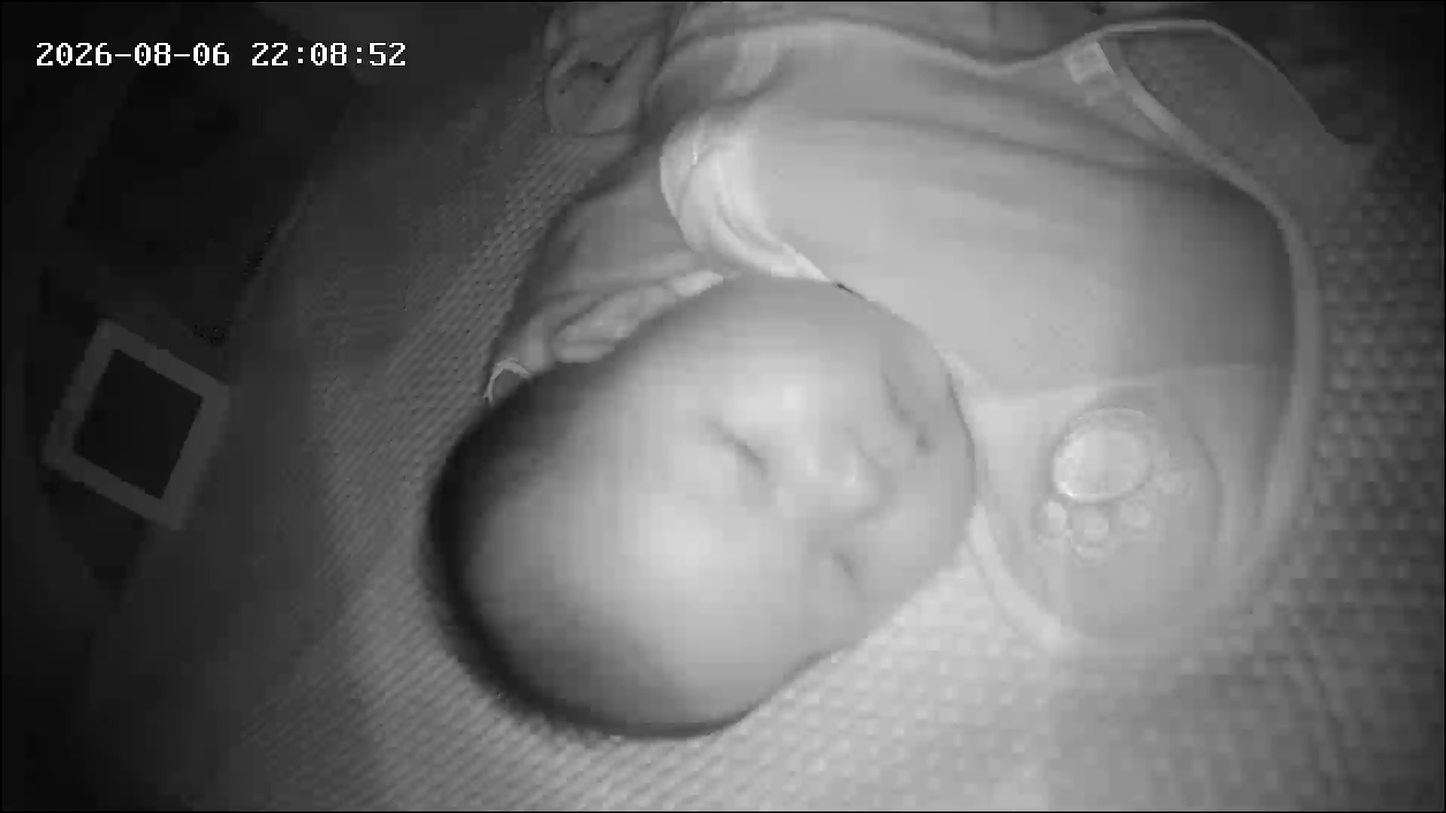baby: (410, 1, 1333, 754)
baby_face: (420, 261, 984, 751)
